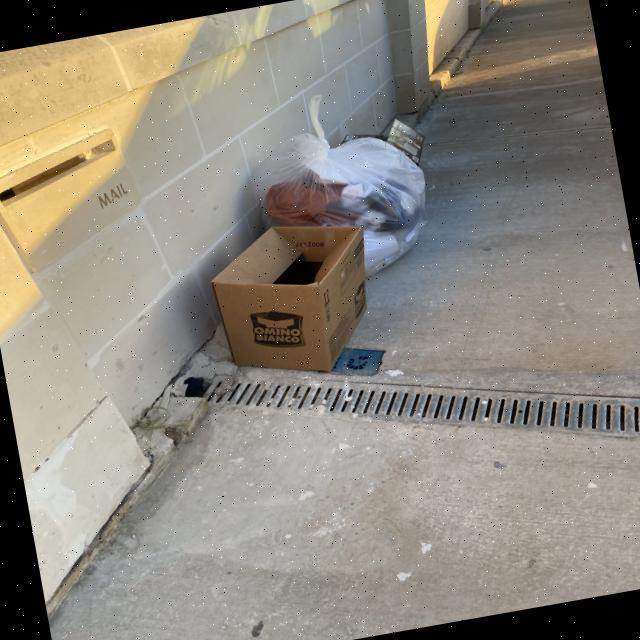Other Waste: (198, 208, 388, 390)
Recyclable Material: (256, 116, 443, 284)
